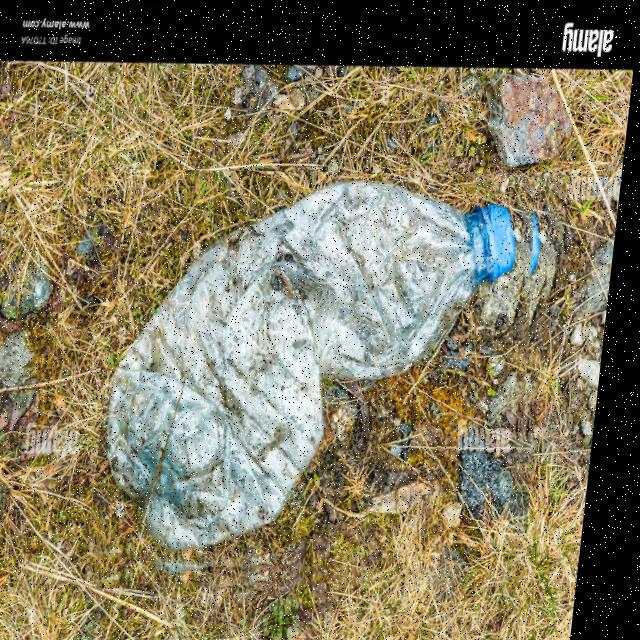plasticbottle: (96, 168, 566, 589)
plasticbottlecap: (479, 177, 573, 301)
